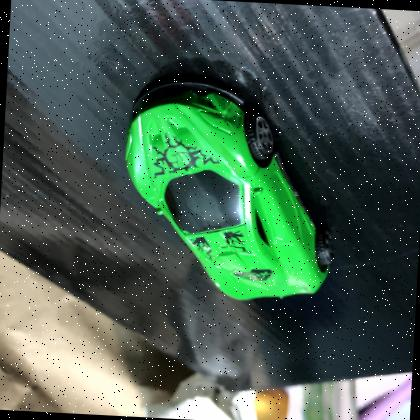Car: (123, 78, 331, 300)
